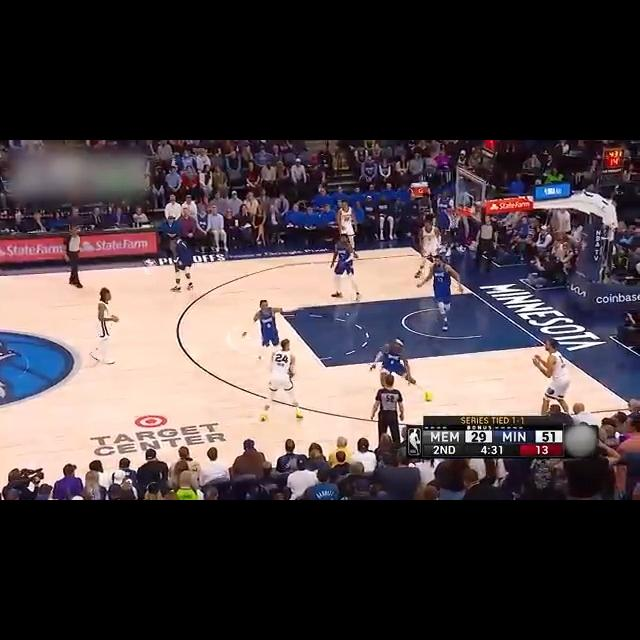hoop: (441, 204, 465, 231)
